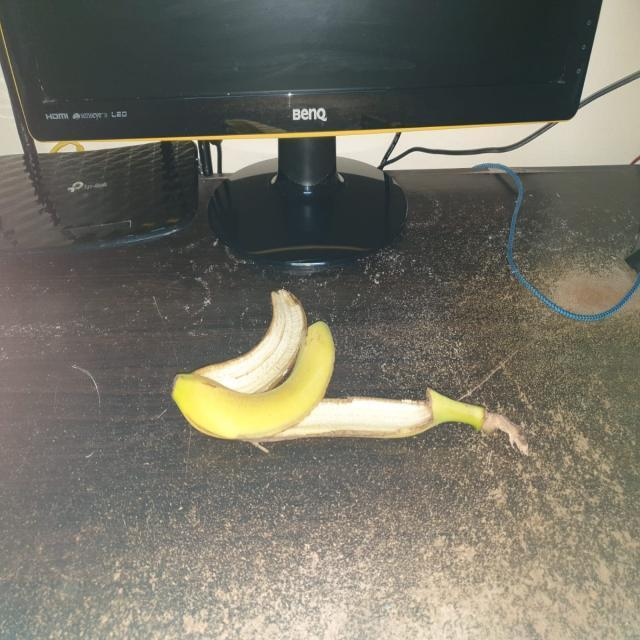banana-peel: (170, 318, 336, 448), (241, 386, 530, 457), (190, 287, 307, 394)
